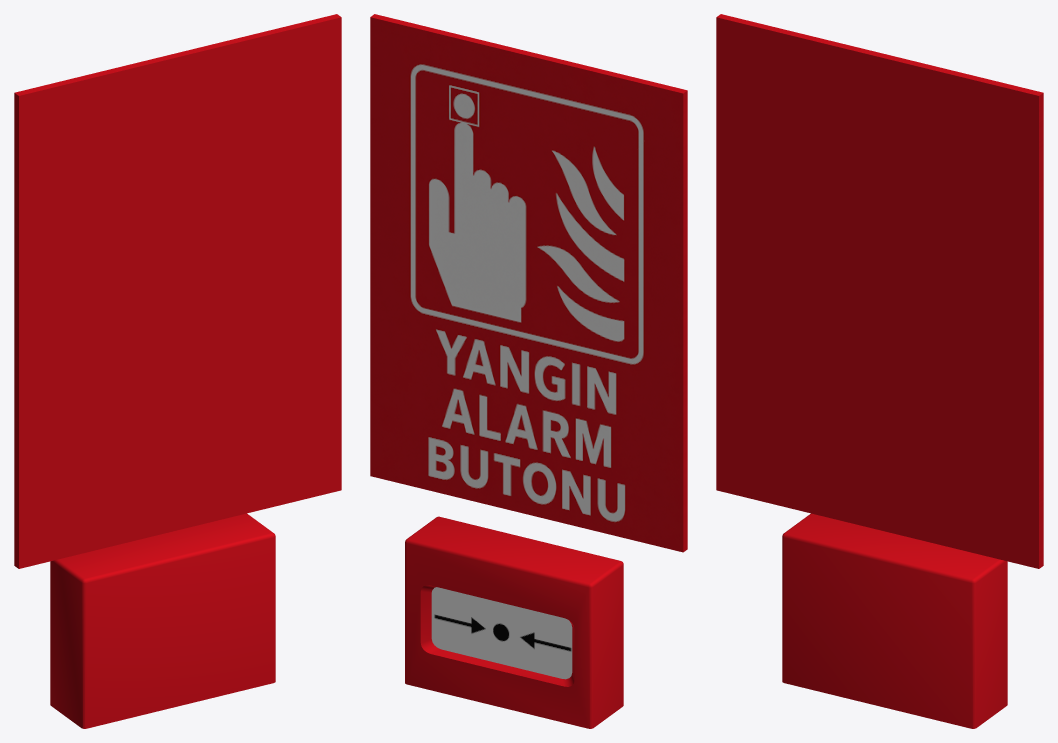
The model's file is FireBlanket.fbx.
3 views of the same model, side by side, from view 1: azimuth 30°, elevation 25°; view 2: azimuth 150°, elevation 25°; view 3: azimuth 330°, elevation 25° (orthographic). The views are drawn at different scales.
Parts seen in each view (by area): view 1: FBSign, FBButton; view 2: FBSign, FBButton; view 3: FBSign, FBButton.
Part boxes in pixels (<box>): FBSign: <box>14,14,341,568</box>; FBButton: <box>50,513,275,728</box>; FBSign: <box>370,14,687,552</box>; FBButton: <box>405,516,623,728</box>; FBSign: <box>716,14,1043,568</box>; FBButton: <box>782,513,1007,728</box>.
Size of the model in its own units: 0.2499 by 0.0463 by 0.4804.
